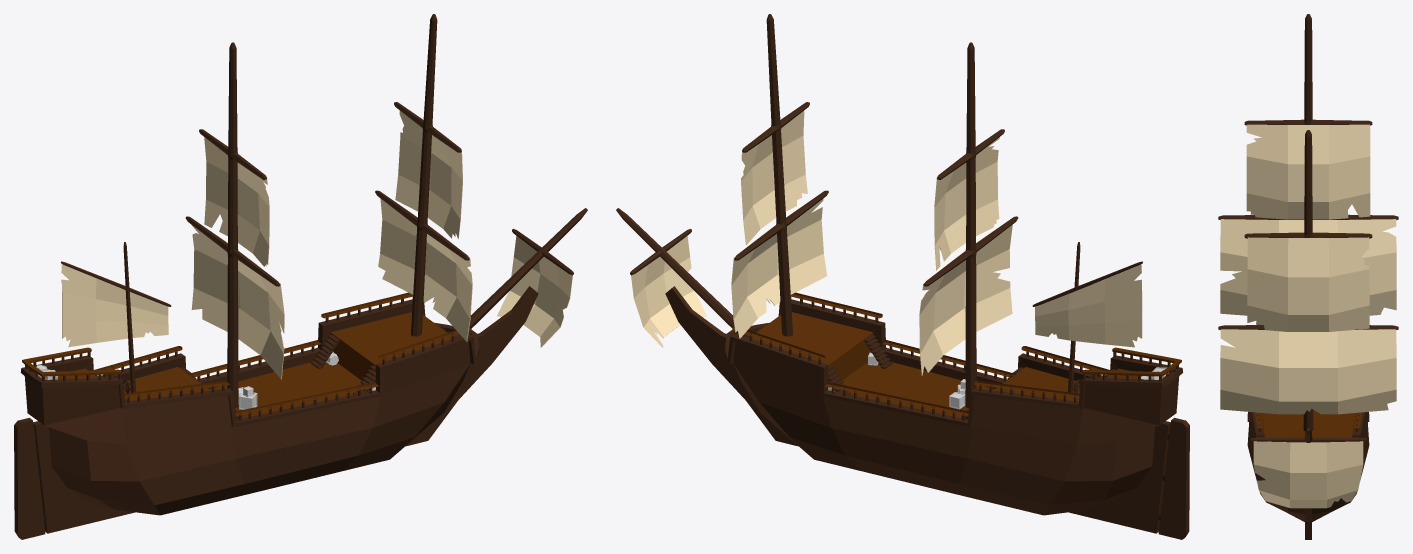
File: DutchmanFinal.fbx
3 views of the same model, side by side, from view 1: azimuth 30°, elevation 25°; view 2: azimuth 150°, elevation 25°; view 3: azimuth 270°, elevation 25° (orthographic). The views are drawn at different scales.
Parts seen in each view (by area): view 1: Cube.006; view 2: Cube.006; view 3: Cube.006.
Boxes of the visible parts, x1,y1,x2,y2 form: Cube.006: (14,14,587,539); Cube.006: (616,14,1189,539); Cube.006: (1218,14,1398,539).
Bounding box in the file's own units: 2581 × 6842 × 9222.
